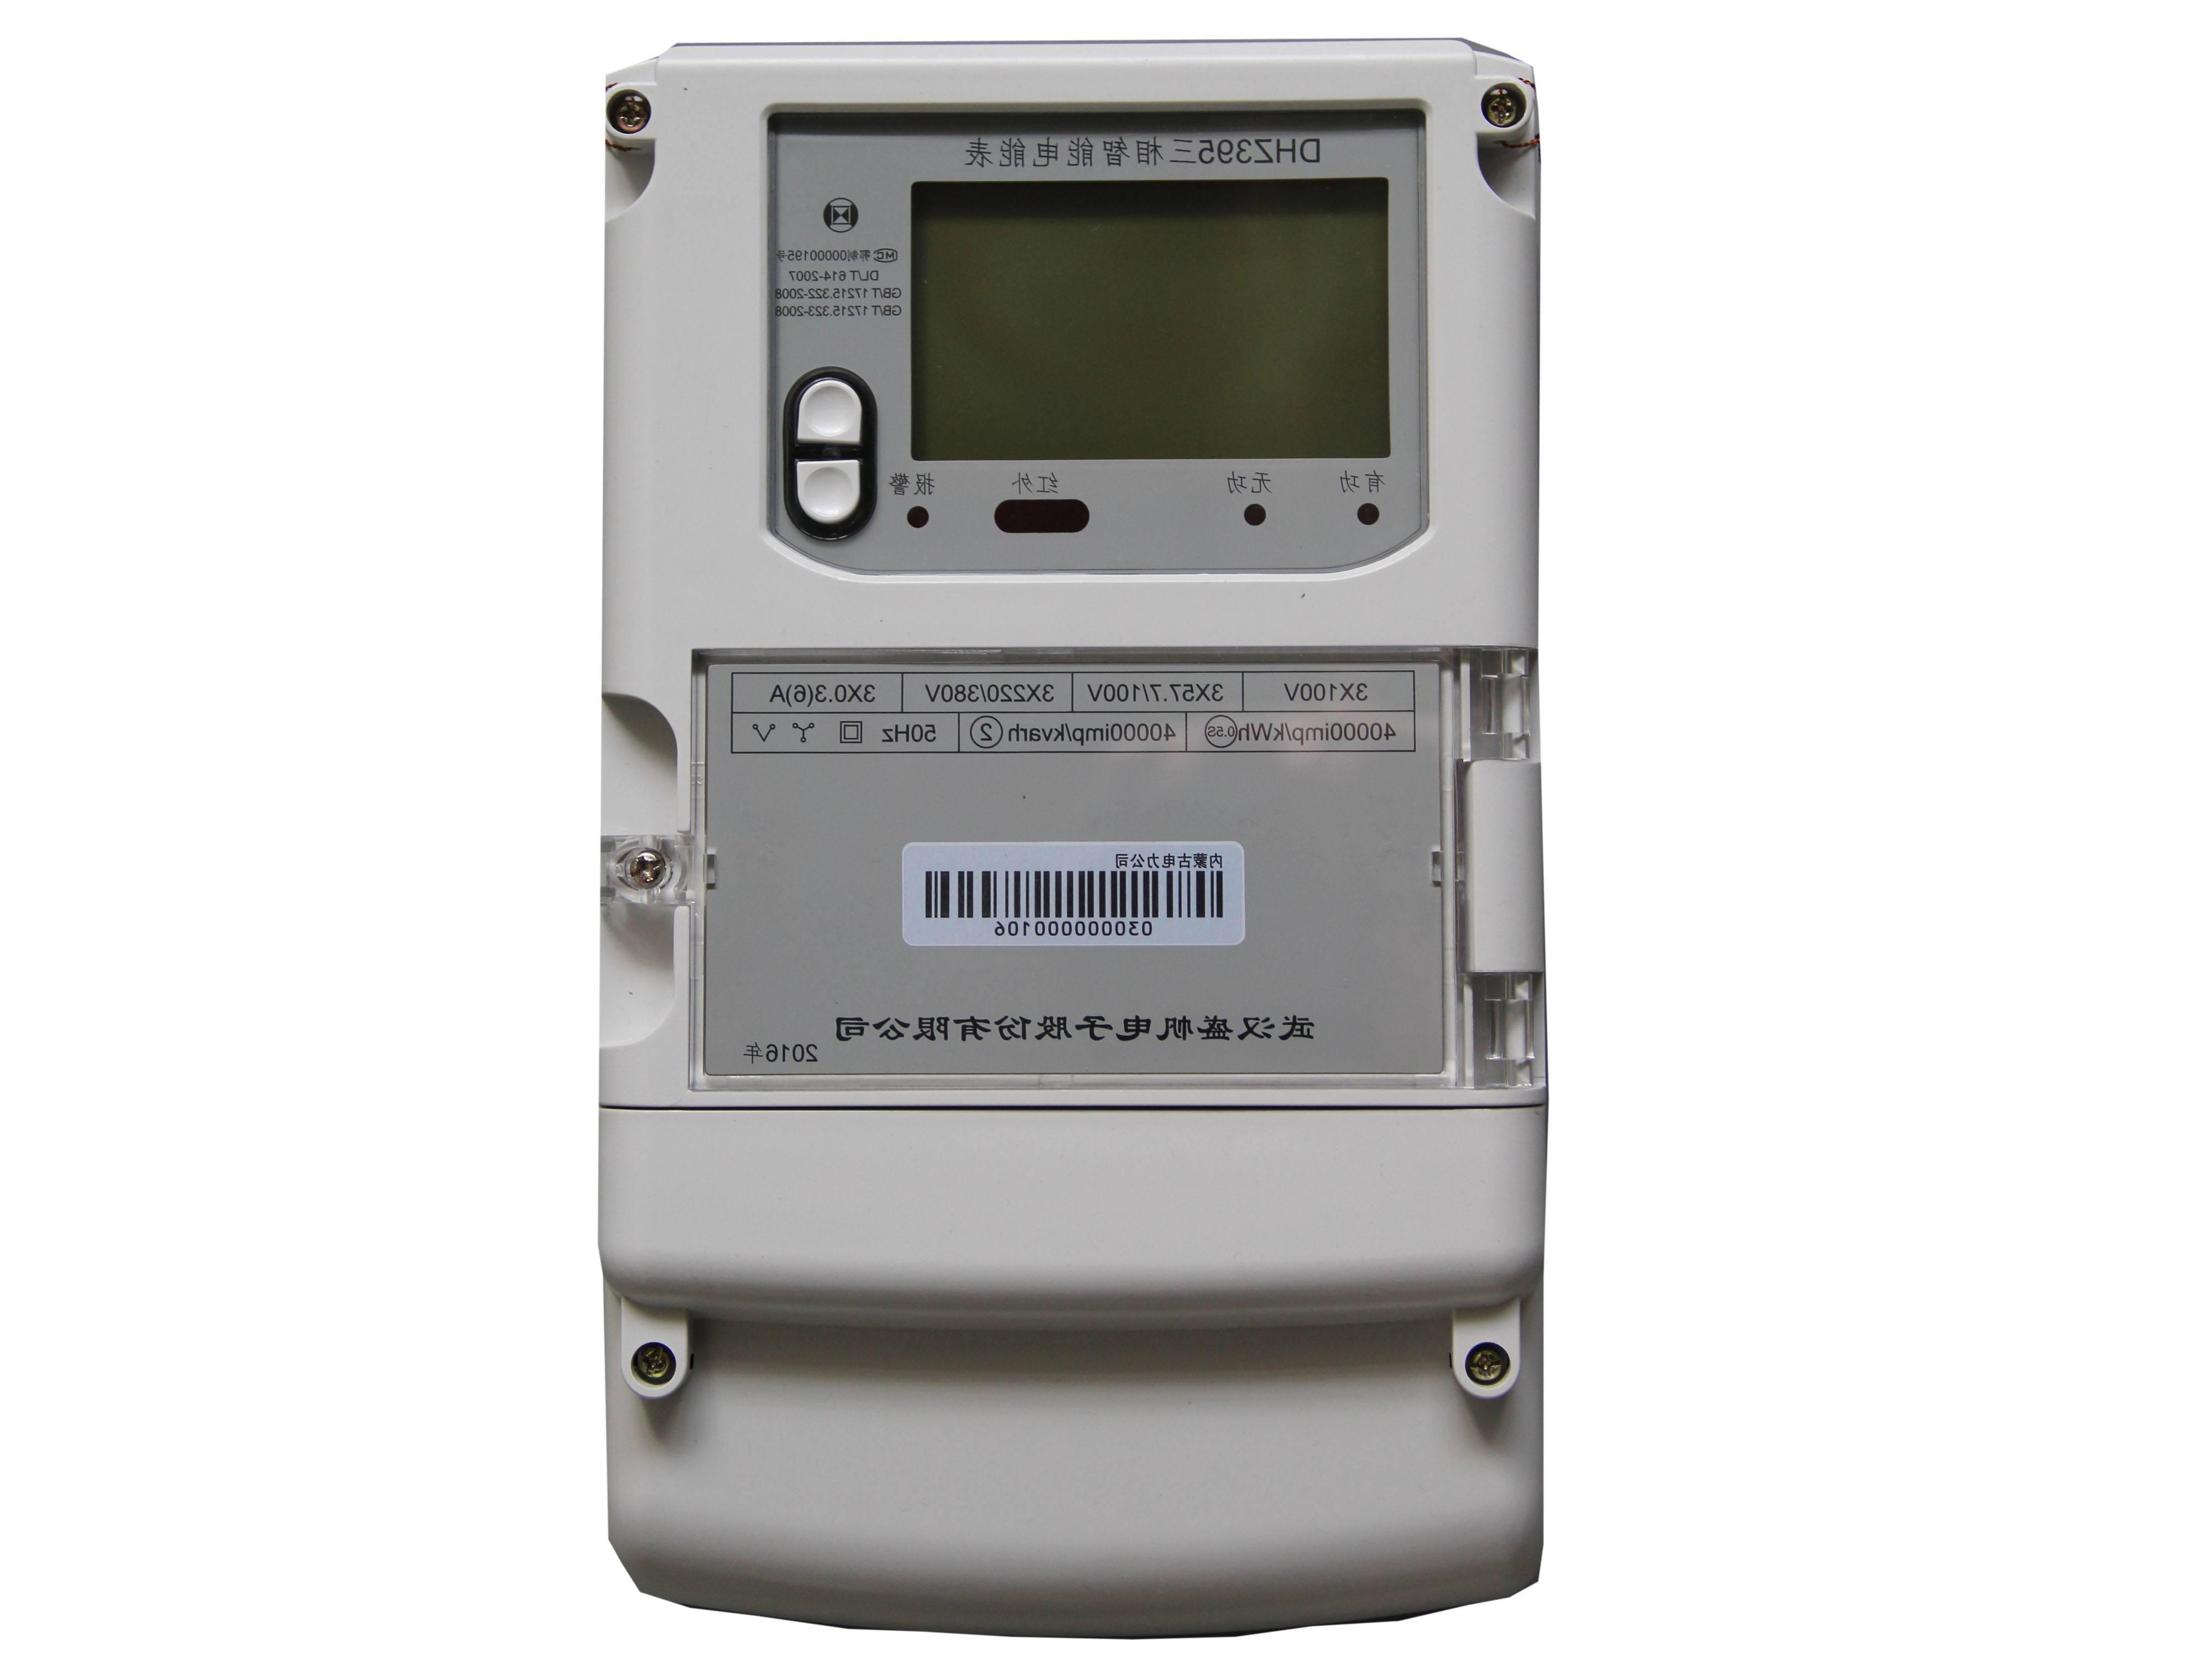digital: (601, 47, 1555, 1307)
